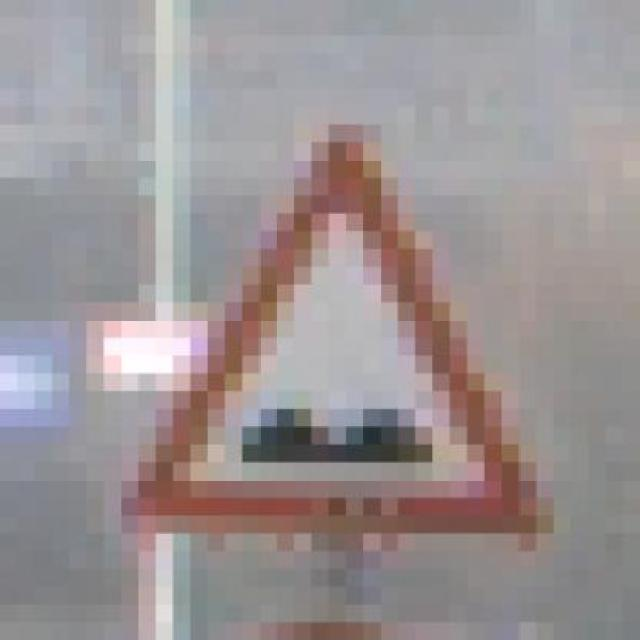Uneven Road: (103, 124, 554, 551)
